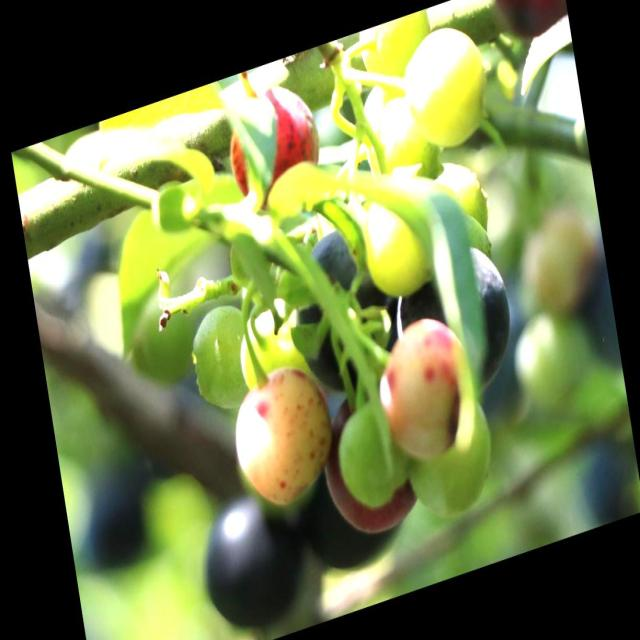blueberry: (386, 228, 522, 416), (283, 210, 401, 398), (195, 482, 299, 634)
blueberry-halfripe: (316, 375, 424, 552), (223, 355, 338, 512), (376, 304, 478, 472), (221, 70, 323, 200)
blueberry-unripe: (399, 391, 501, 532), (399, 14, 495, 159), (350, 171, 441, 304), (358, 87, 448, 202), (330, 388, 410, 509), (429, 147, 501, 273), (187, 299, 257, 416), (354, 8, 436, 95)
